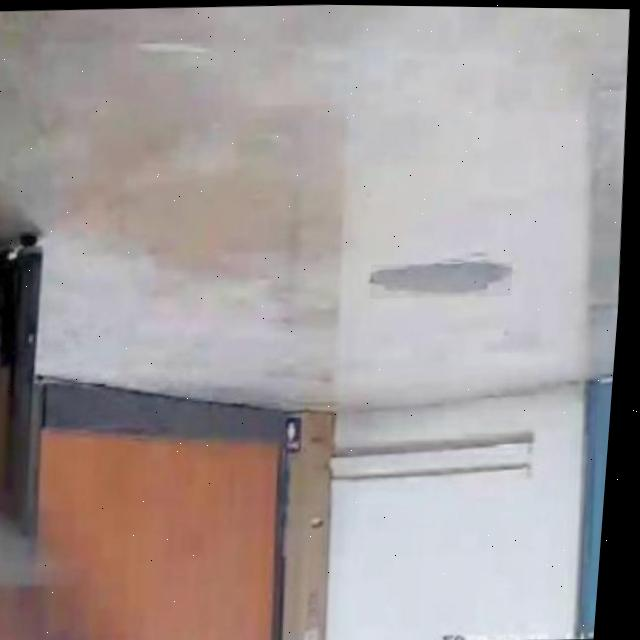spillage: (374, 261, 515, 296)
